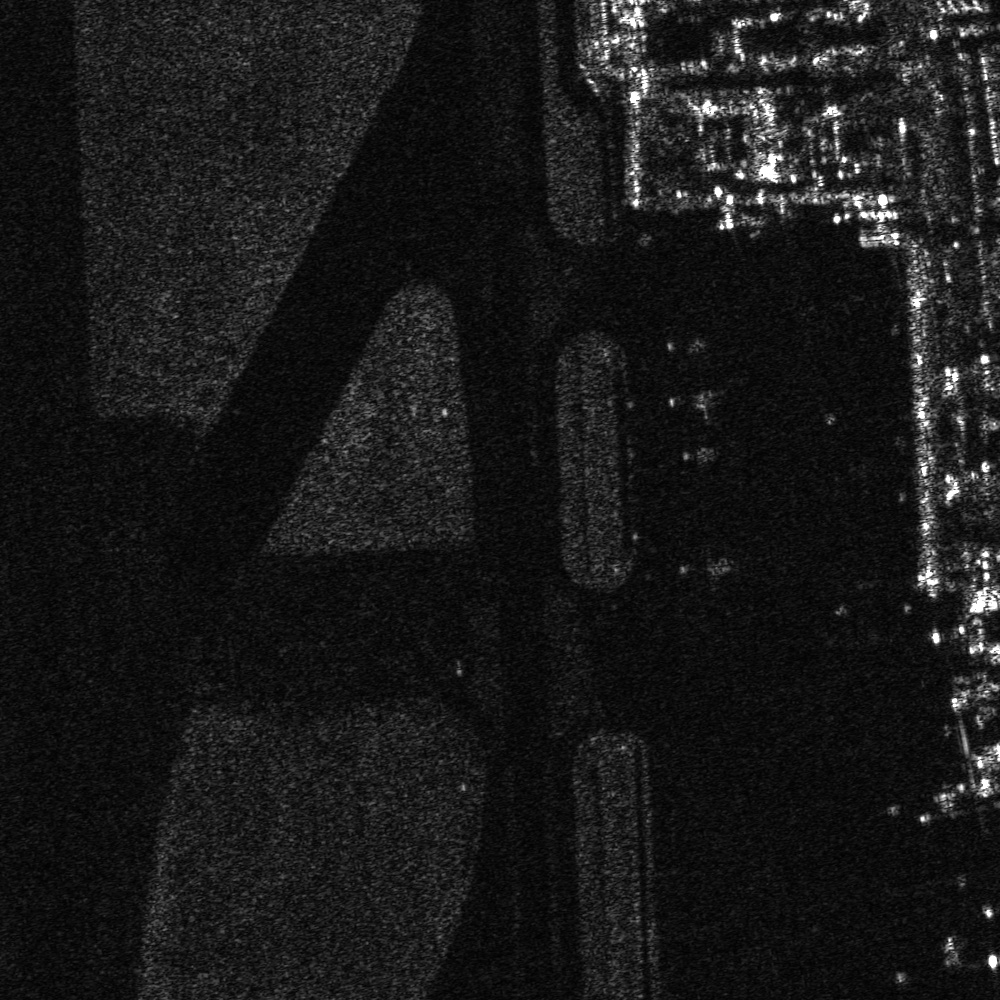ARJ21: (660, 378, 728, 422), (671, 433, 727, 472)
other: (650, 323, 717, 365), (677, 543, 740, 585)
